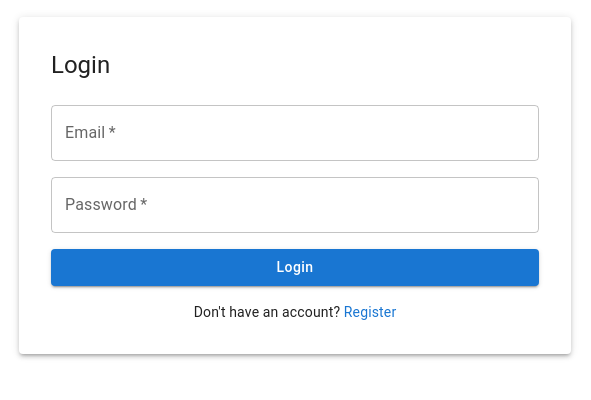
Test: Login Page › should show error for invalid credentials
In the field named "email": (295, 133) [51,105,539,161], type "wrong@example.com"
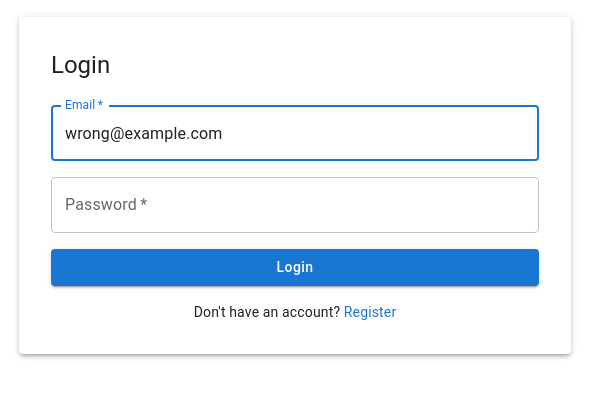
In the password field named "password": (295, 205) [51,177,539,233], type "wrongpassword"
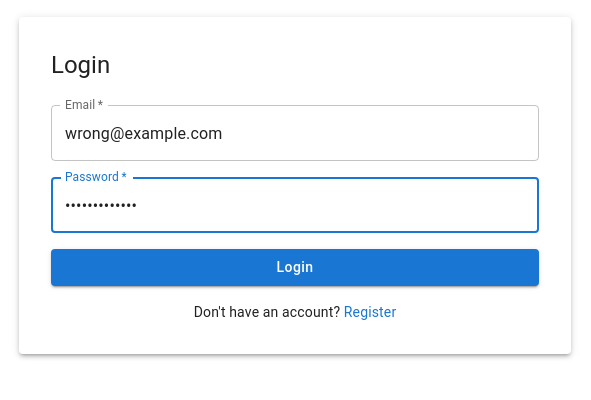
Click the submit button: click(295, 268) [51,249,539,286]
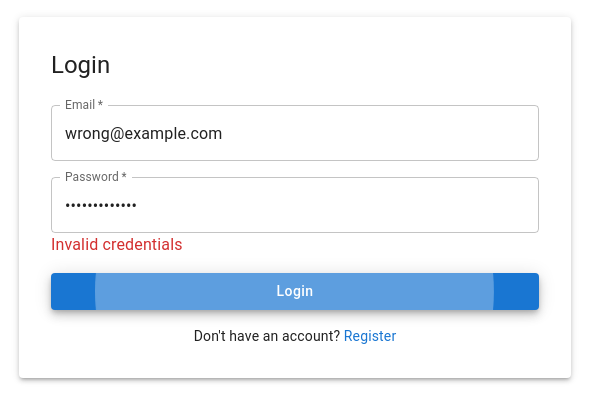
Result: the text with test id "error-message" reads "Invalid credentials" at [51,235,183,254]
